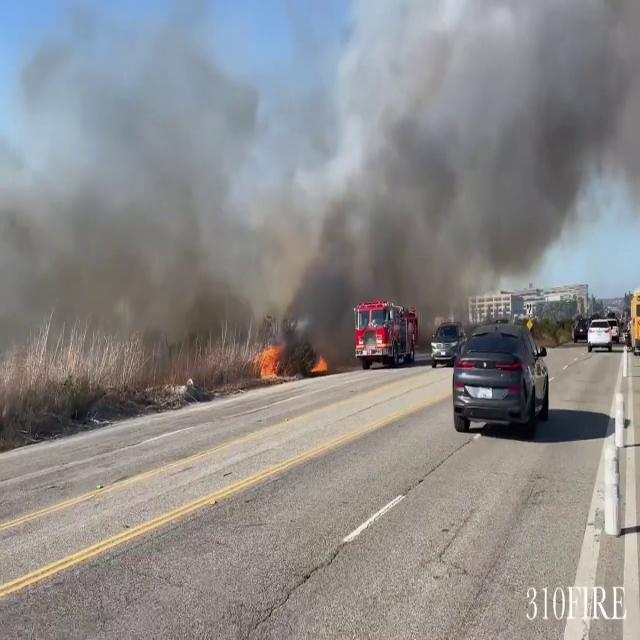Fire: (249, 337, 287, 382)
Smoke: (281, 0, 640, 319), (0, 0, 274, 378)
